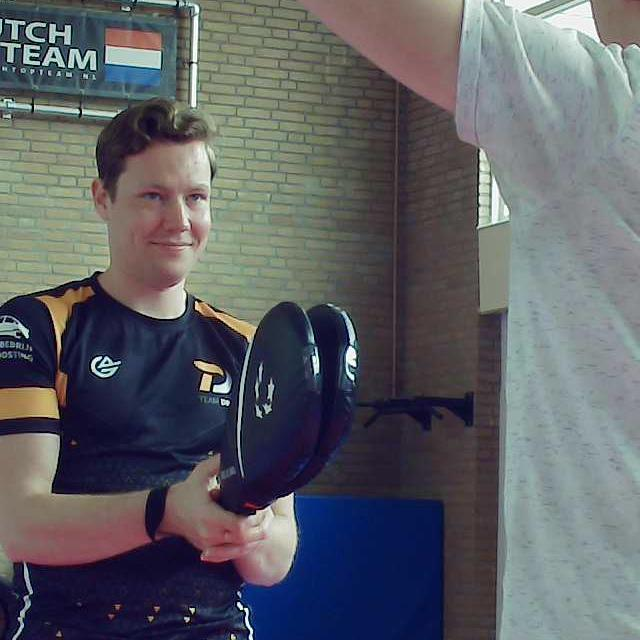paddle: (218, 303, 359, 516)
